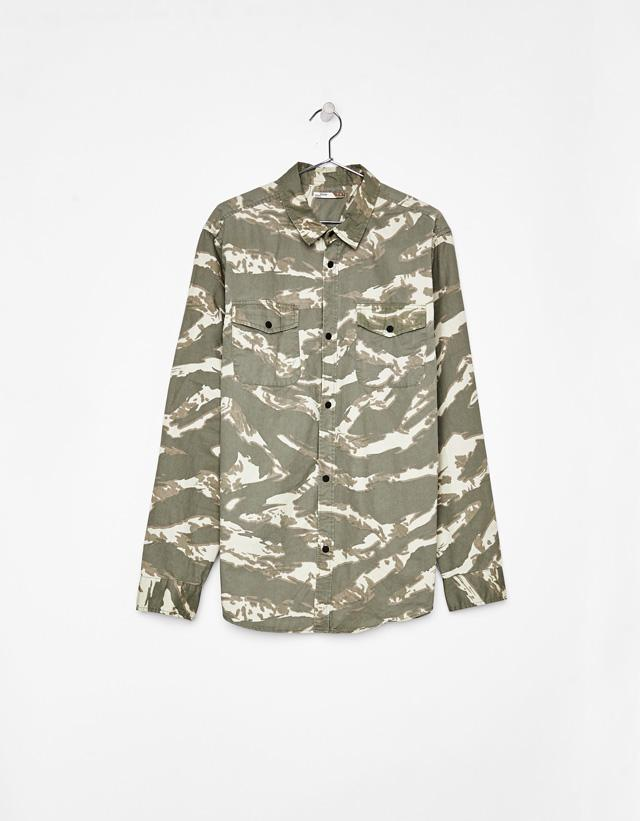teeshirt: (128, 160, 520, 637)
